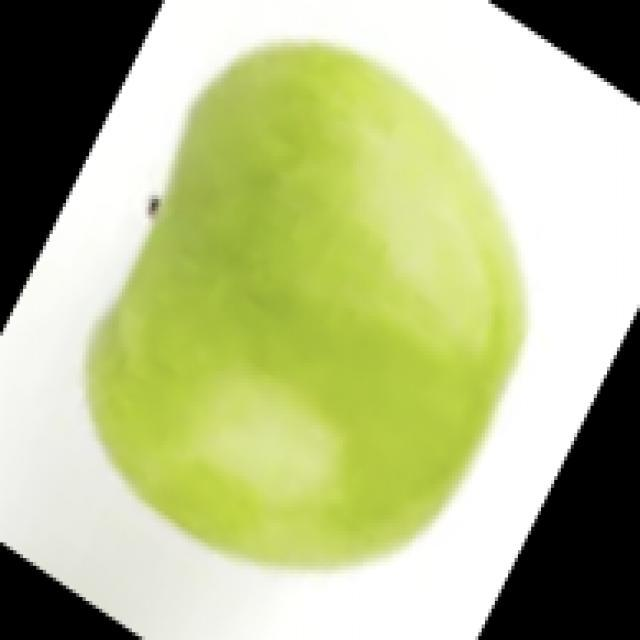Fresh Apple: (96, 82, 502, 523)
